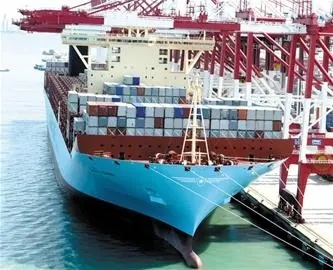Cargoship: (43, 17, 295, 261)
